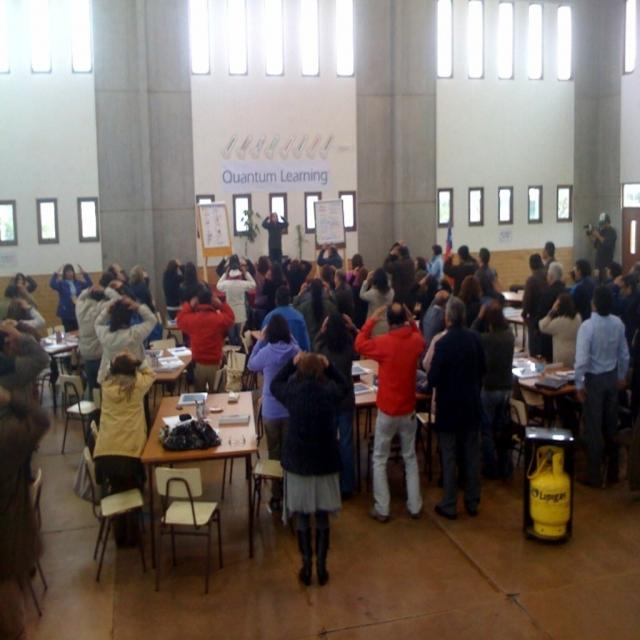chair: (153, 466, 223, 596), (85, 450, 150, 584), (57, 366, 99, 454)
desk: (146, 386, 276, 582)
person: (270, 350, 346, 587), (354, 301, 426, 520), (423, 298, 488, 522), (573, 285, 631, 491), (173, 284, 233, 394)
